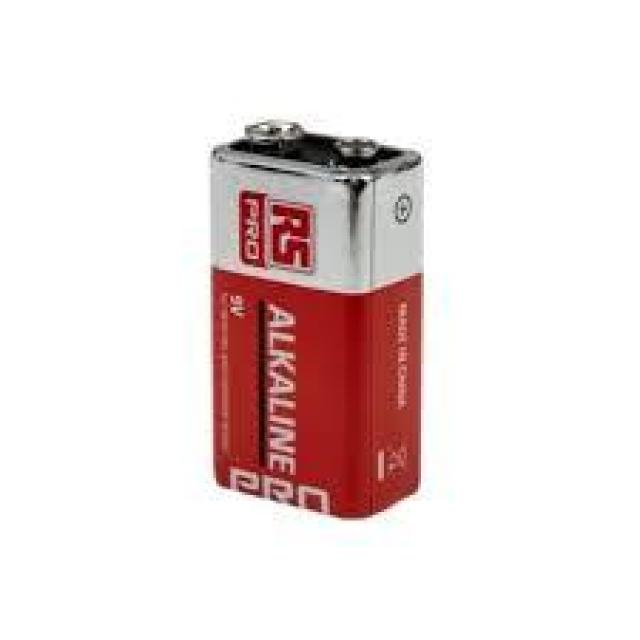9V: (199, 98, 432, 531)
